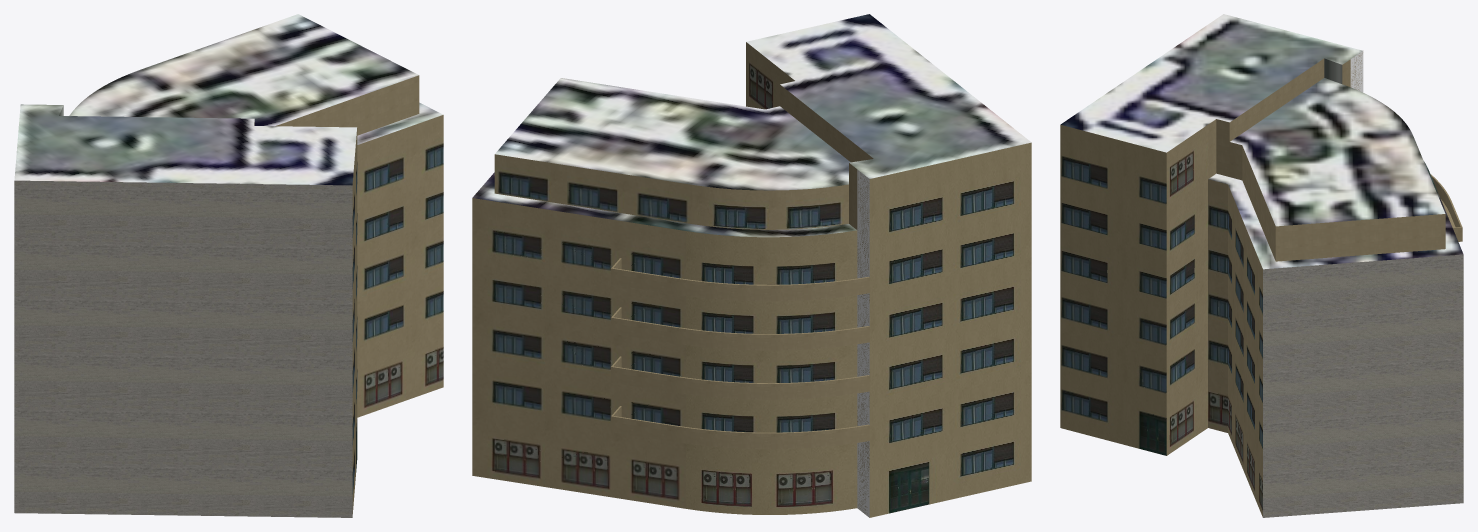
The model's file is Building002.dae.
The picture shows the model from 3 angles, left to right: view 1: azimuth 30°, elevation 25°; view 2: azimuth 150°, elevation 25°; view 3: azimuth 270°, elevation 25°; orthographic projection. The views are drawn at different scales.
Parts seen in each view (by area): view 1: SketchUp (×6); view 2: SketchUp (×13); view 3: SketchUp (×8).
Boxes of the visible parts, x1=… form: SketchUp (×6): x1=14, y1=14, x2=443, y2=517; SketchUp (×13): x1=472, y1=14, x2=1031, y2=517; SketchUp (×8): x1=1060, y1=14, x2=1463, y2=517.
Size of the model in its own units: 1193 by 1014 by 841.
11 materials, 10 textured.
